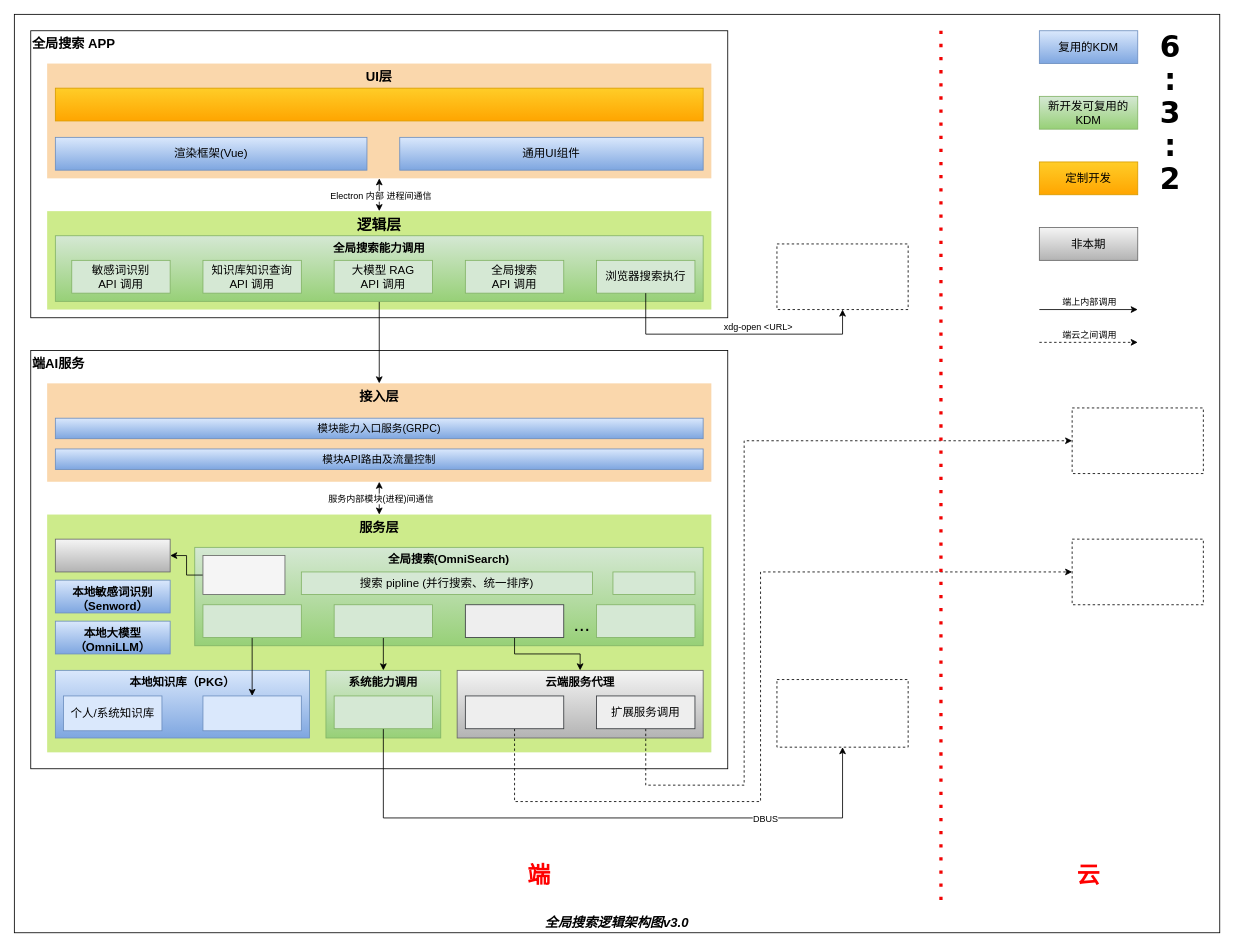
Some shapes in this 1234 by 947 pixel diagram are drawn without their labels. The centre of each missing label's shape, as x and y in pixels:
三方搜索引擎: (x=1137, y=440)
云端搜索: (x=514, y=621)
云端知识库: (x=1137, y=571)
云端知识库调用: (x=514, y=712)
全文检索 （含搜图）: (x=251, y=713)
功能界面: (x=379, y=104)
图文搜索: (x=251, y=621)
应用搜索: (x=383, y=621)
应用管理 （对接麒麟）: (x=383, y=712)
排序策略配置: (x=653, y=582)
搜索意图识别及槽位抽取: (x=243, y=574)
本地意图识别 （Intent）: (x=112, y=555)
系统默认浏览器: (x=842, y=276)
统一排序: (x=645, y=621)
麒麟OS应用管理及 麒麟应用商店: (x=842, y=713)
